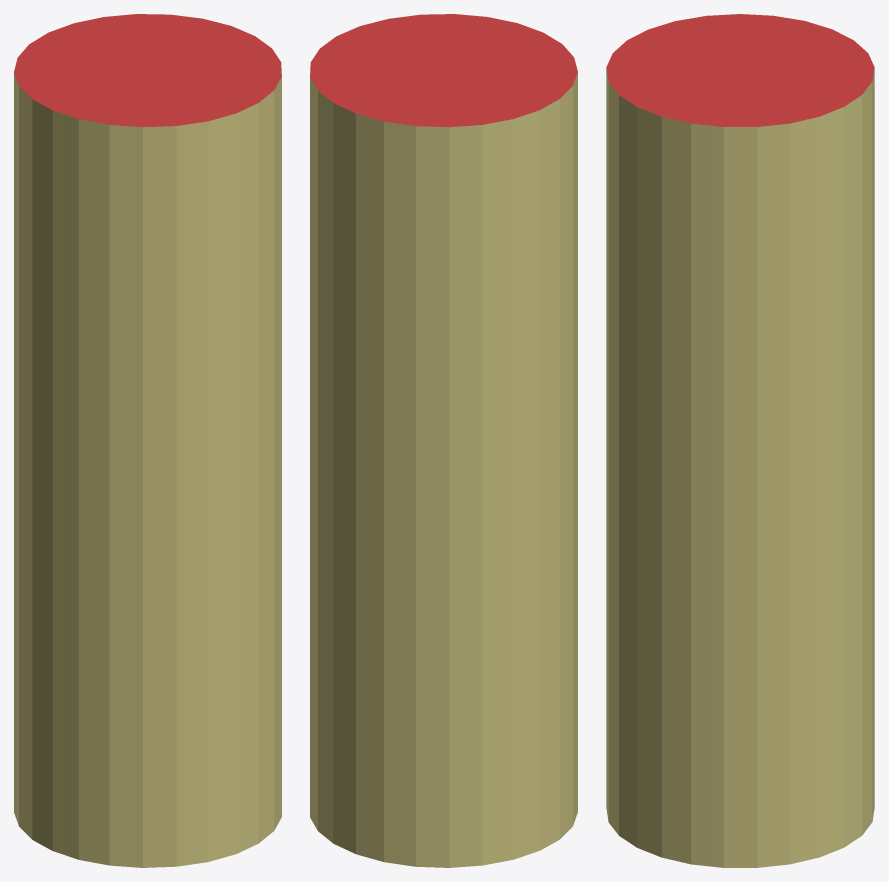
3 renders of one model, left to right at view 1: azimuth 30°, elevation 25°; view 2: azimuth 150°, elevation 25°; view 3: azimuth 270°, elevation 25°, orthographic.
Size of the model in its own units: 2.88 by 2.89 by 8.8.
